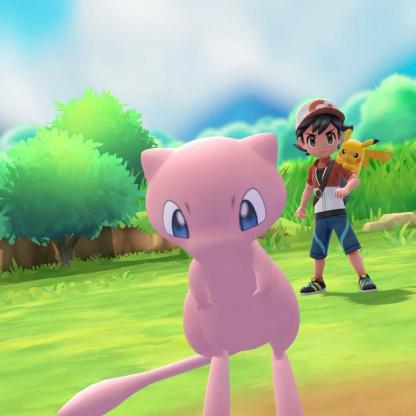Mew: (1, 1, 416, 389)
